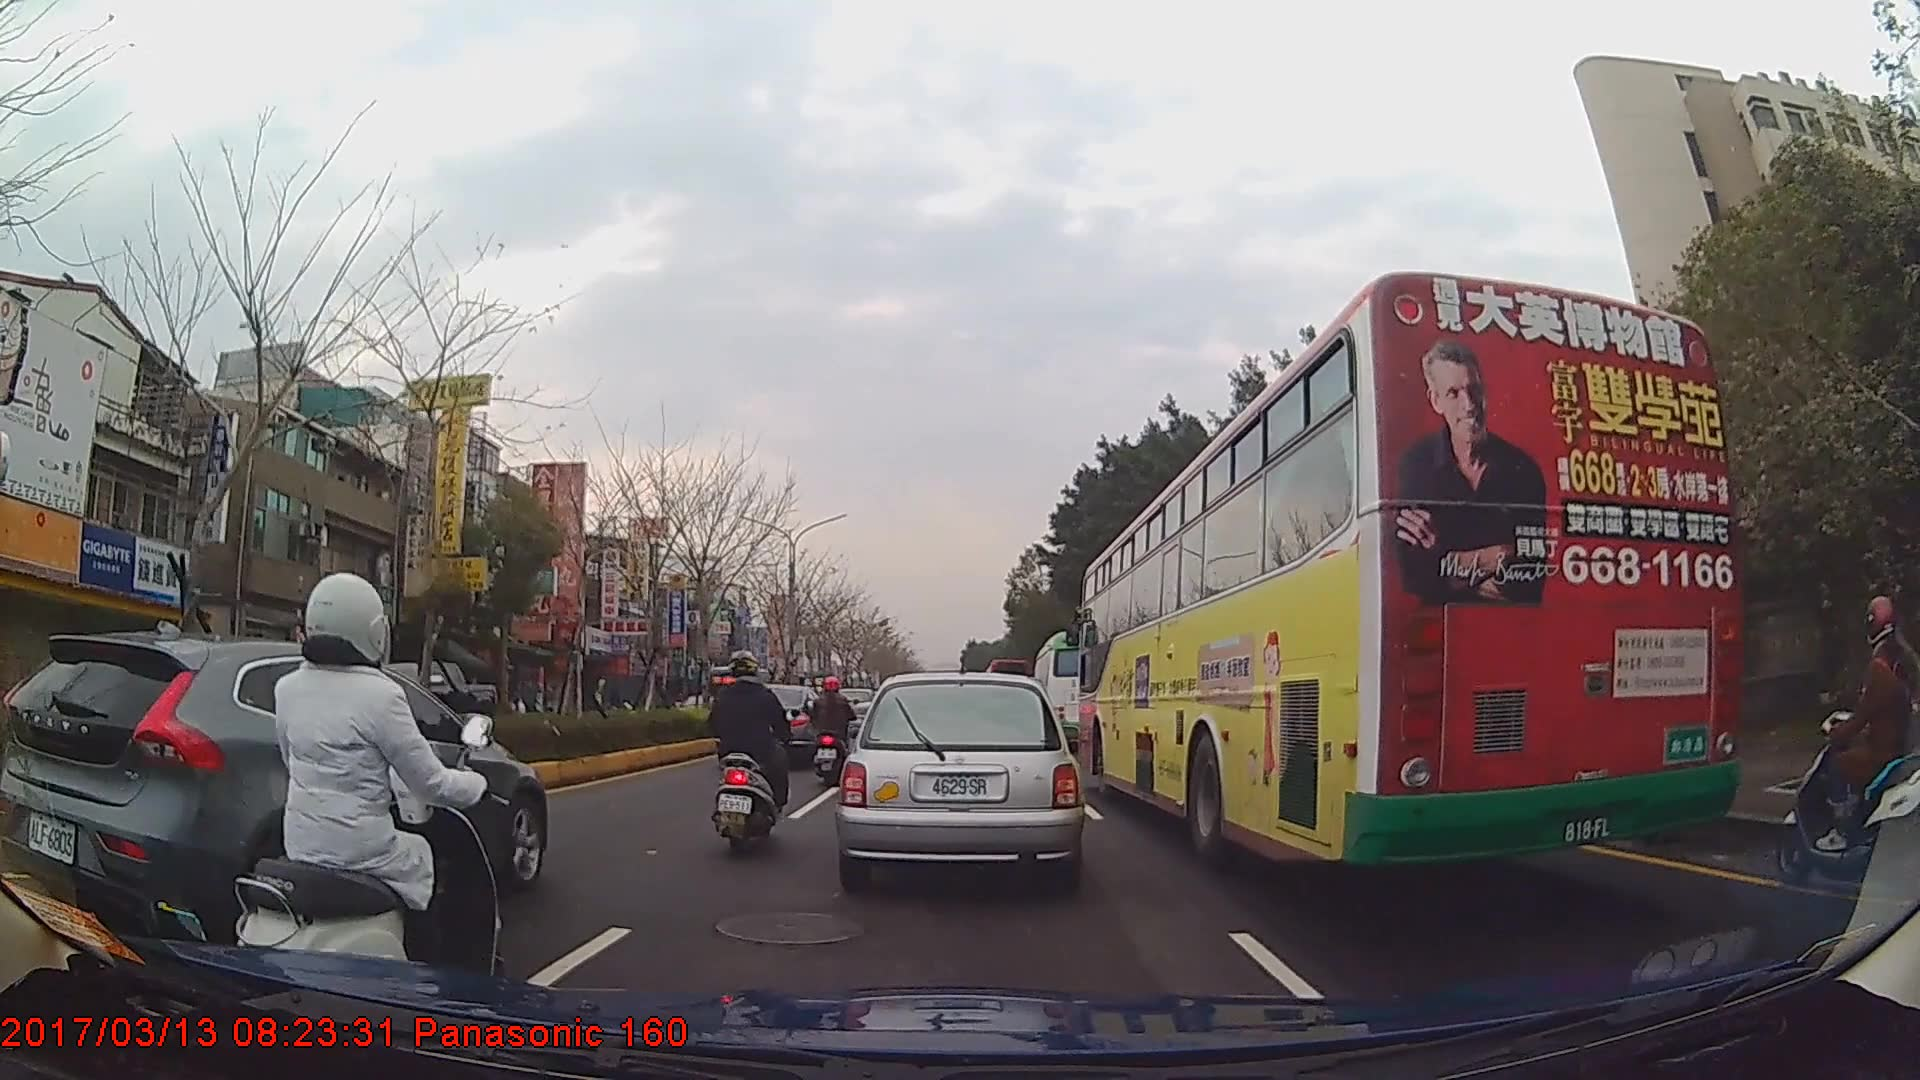rider: (223, 566, 506, 1010), (1773, 596, 1920, 884), (705, 650, 793, 854), (807, 677, 856, 788)
vehicle: (1079, 266, 1742, 876), (0, 628, 547, 943), (836, 671, 1083, 888), (357, 658, 500, 739), (1031, 630, 1116, 749), (721, 684, 830, 768)
